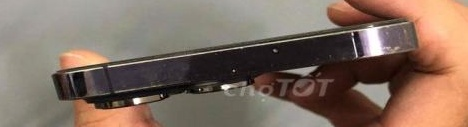scratch: (40, 17, 426, 115), (82, 73, 191, 101), (124, 39, 270, 59), (340, 38, 432, 62), (266, 45, 302, 59), (222, 63, 253, 79)
